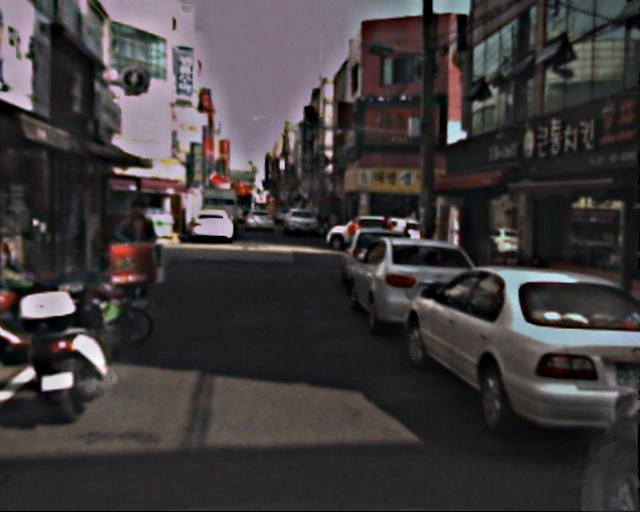person: (115, 202, 168, 314), (347, 216, 361, 251), (380, 215, 394, 250)
